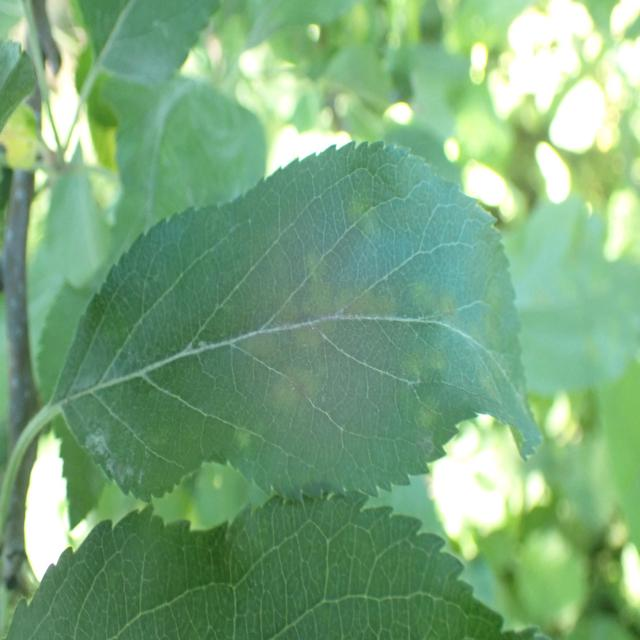scab: (129, 222, 524, 492)
